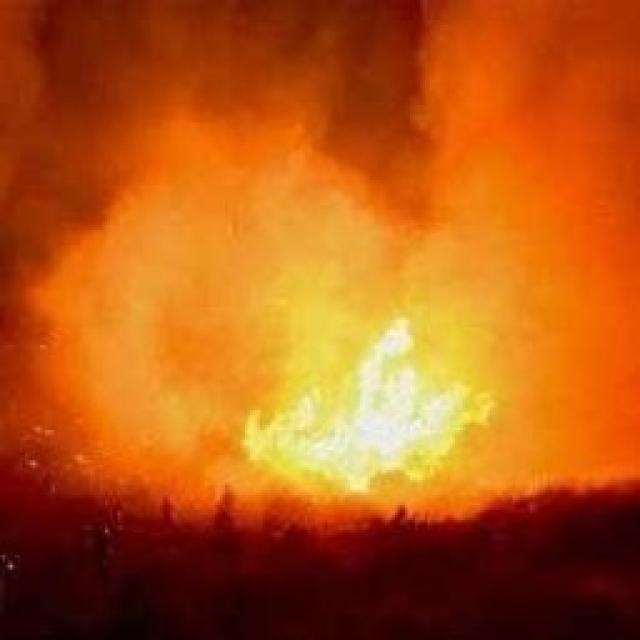Fire: (238, 306, 512, 486)
Smoke: (0, 0, 640, 295)
